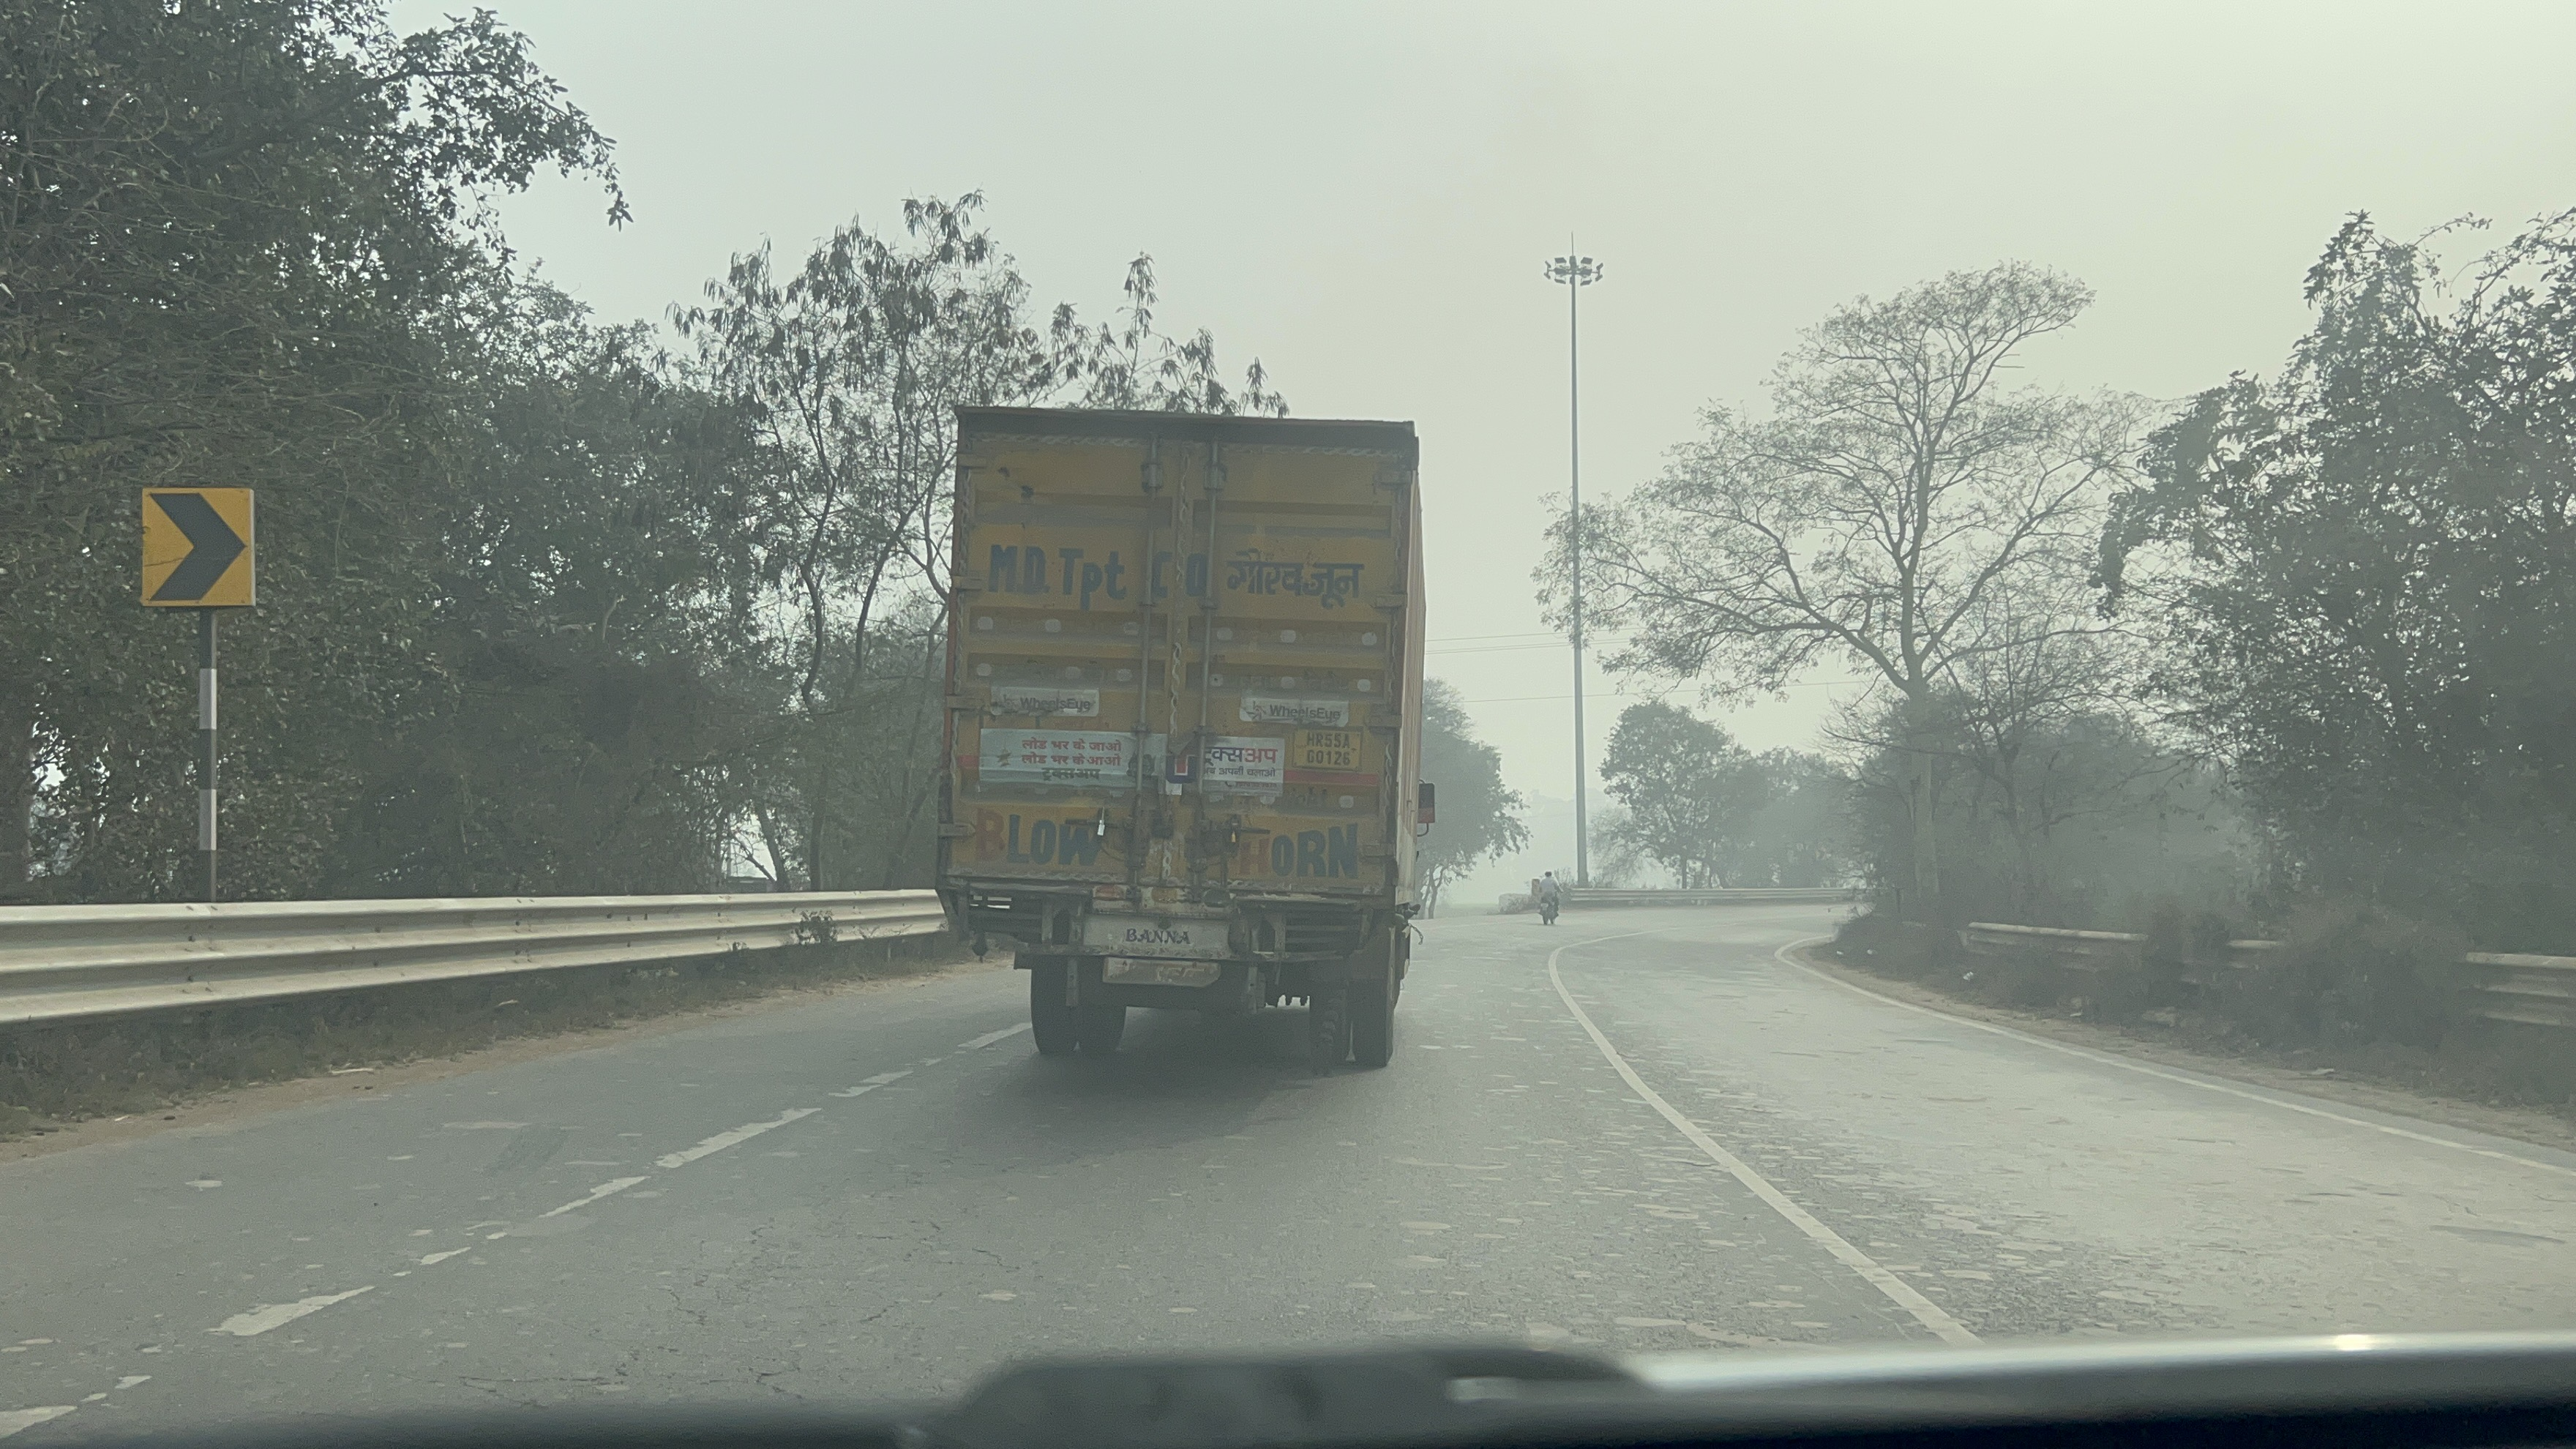General: (119, 467, 280, 625)
